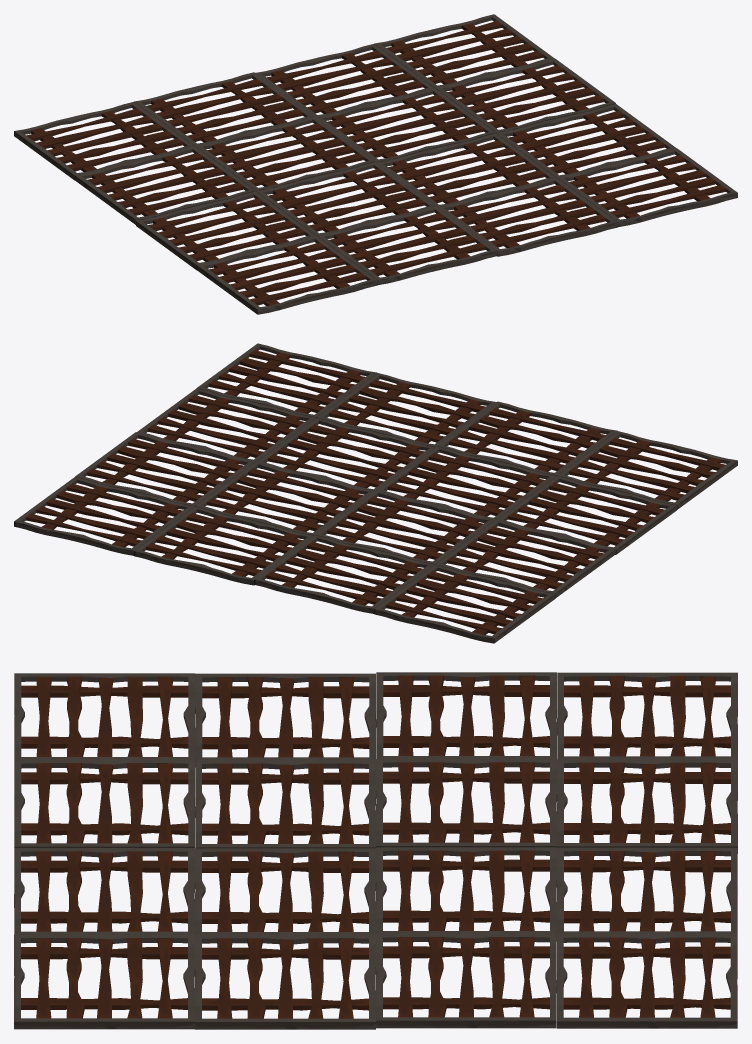
The model's file is metalFloor.fbx.
3 views of the same model, one above another, from view 1: azimuth 30°, elevation 25°; view 2: azimuth 150°, elevation 25°; view 3: azimuth 270°, elevation 25° (orthographic). The views are drawn at different scales.
Visible parts, largest first — view 1: Cube.010, Cube.008, Cube, Cube.002, Cube.014, Cube.011, Cube.015, Cube.012, Cube.004, Cube.006, Cube.009, Cube.013 (+4 smaller); view 2: Cube.015, Cube.005, Cube.013, Cube.007, Cube.014, Cube.010, Cube.011, Cube.008, Cube.012, Cube, Cube.004, Cube.002 (+4 smaller); view 3: Cube.004, Cube, Cube.005, Cube.001, Cube.008, Cube.012, Cube.009, Cube.013, Cube.015, Cube.011, Cube.007, Cube.002 (+4 smaller).
Boxes of the visible parts, bbox=[...] form: Cube.010: bbox=[196, 236, 377, 314]; Cube.008: bbox=[317, 206, 497, 284]; Cube: bbox=[557, 148, 737, 226]; Cube.002: bbox=[438, 178, 617, 256]; Cube.014: bbox=[75, 146, 255, 224]; Cube.011: bbox=[136, 191, 316, 269]; Cube.015: bbox=[14, 102, 194, 180]; Cube.012: bbox=[195, 116, 375, 190]; Cube.004: bbox=[435, 58, 615, 132]; Cube.006: bbox=[316, 88, 495, 162]; Cube.009: bbox=[256, 162, 435, 235]; Cube.013: bbox=[134, 72, 314, 145]; Cube.015: bbox=[374, 564, 555, 643]; Cube.005: bbox=[14, 477, 194, 555]; Cube.013: bbox=[254, 535, 434, 613]; Cube.007: bbox=[134, 506, 313, 585]; Cube.014: bbox=[435, 520, 615, 598]; Cube.010: bbox=[557, 431, 737, 509]; Cube.011: bbox=[497, 476, 676, 554]; Cube.008: bbox=[437, 401, 617, 475]; Cube.012: bbox=[315, 490, 495, 564]; Cube: bbox=[197, 343, 377, 417]; Cube.004: bbox=[75, 432, 255, 505]; Cube.002: bbox=[317, 373, 496, 446]; Cube.004: bbox=[376, 933, 556, 1028]; Cube: bbox=[14, 934, 194, 1029]; Cube.005: bbox=[556, 934, 737, 1028]; Cube.001: bbox=[195, 935, 375, 1029]; Cube.008: bbox=[14, 759, 194, 847]; Cube.012: bbox=[376, 759, 556, 847]; Cube.009: bbox=[195, 760, 375, 848]; Cube.013: bbox=[557, 759, 737, 853]; Cube.015: bbox=[557, 672, 737, 759]; Cube.011: bbox=[195, 673, 375, 760]; Cube.007: bbox=[557, 847, 737, 934]; Cube.002: bbox=[14, 848, 194, 934].
Size of the model in its own units: 3160 by 49.38 by 2779.
1 material, 1 textured.
